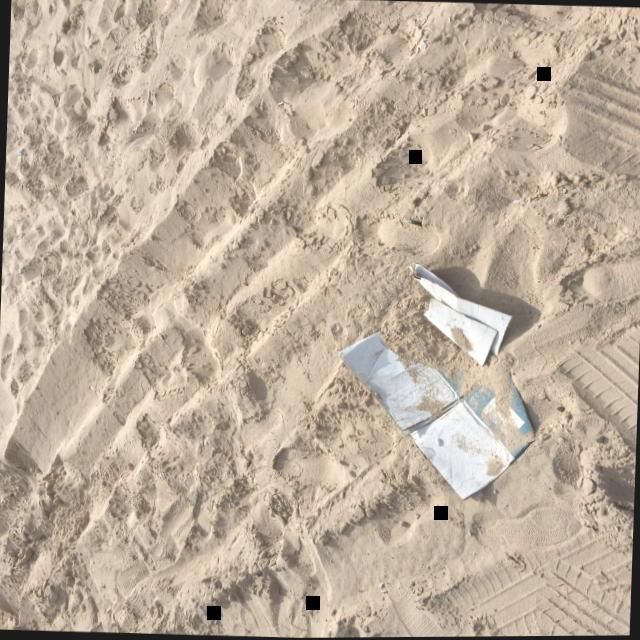Corrugated carton: (336, 331, 534, 500), (408, 263, 512, 366)
Unlabeled litter: (378, 583, 387, 592), (511, 200, 519, 204)
